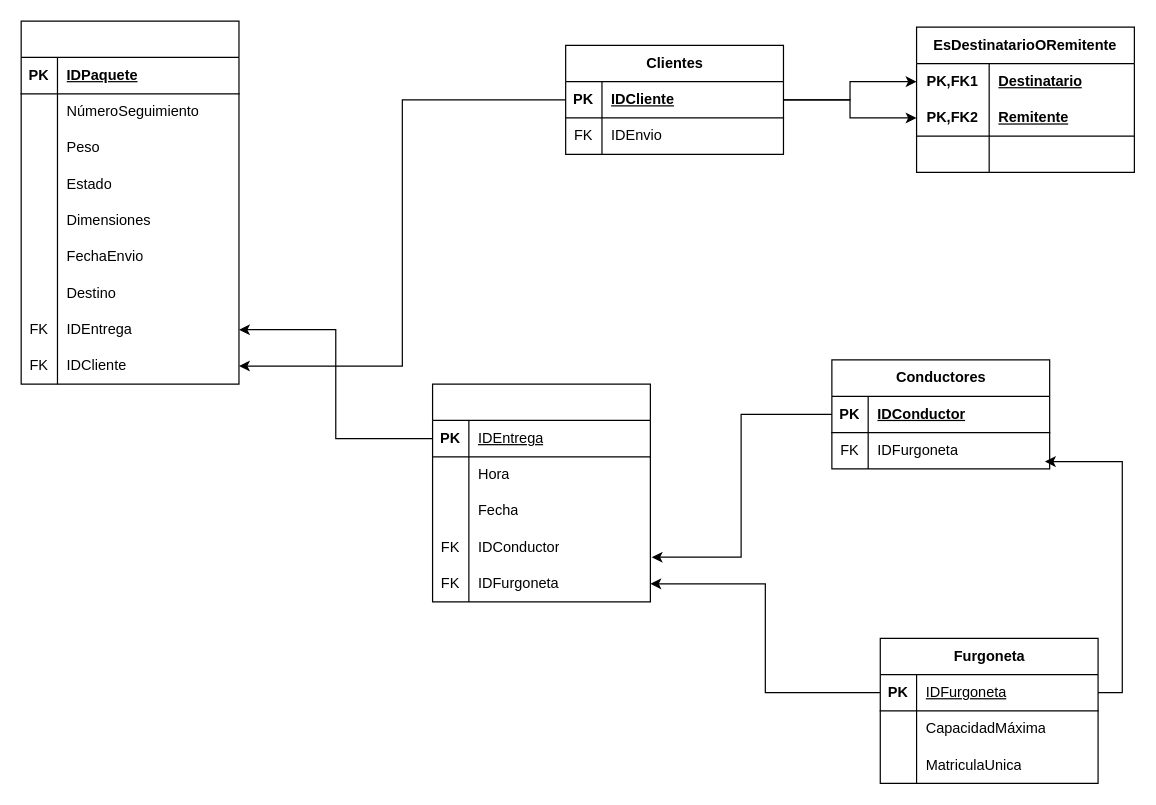
The diagram is 1156 pixels wide and 805 high, and some of its shapes have lost their labels. Here are the shapes that lost their labels. From the top down, the box of each, then its label:
(20, 20, 239, 384): Paquetes
(431, 383, 650, 602): Entregas
